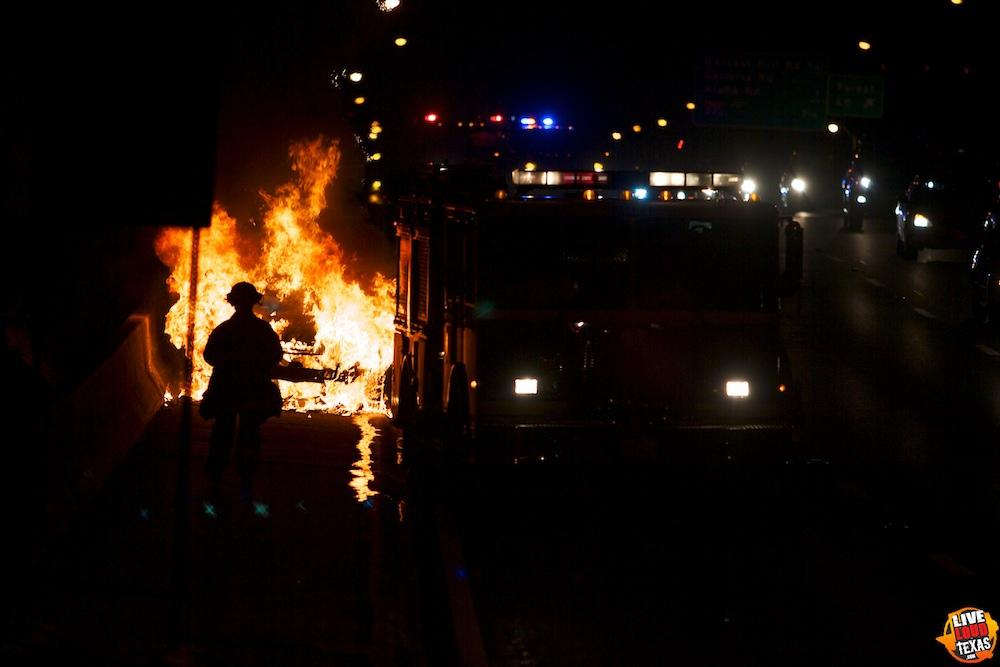fire: (307, 270, 393, 418), (263, 177, 343, 272), (177, 223, 240, 342)
